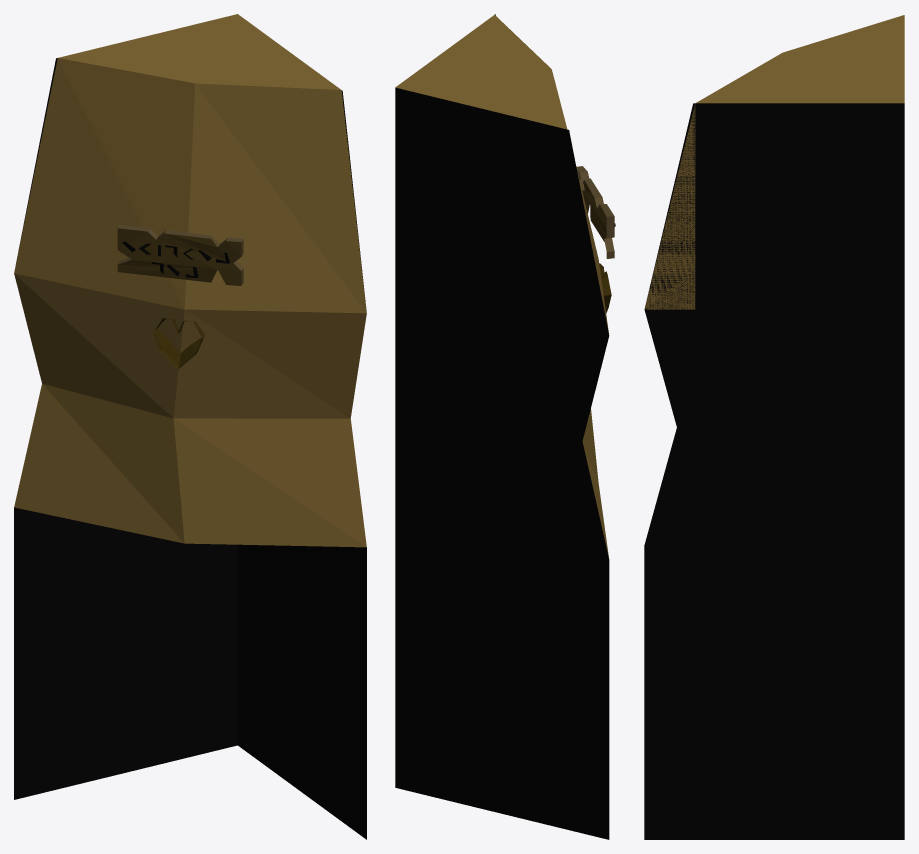
The model's file is obj_recess_0.obj.
3 renders of one model, left to right at view 1: azimuth 30°, elevation 25°; view 2: azimuth 150°, elevation 25°; view 3: azimuth 270°, elevation 25°, orthographic. The views are drawn at different scales.
Bounding box in the file's own units: 1 × 3.12 × 1.
